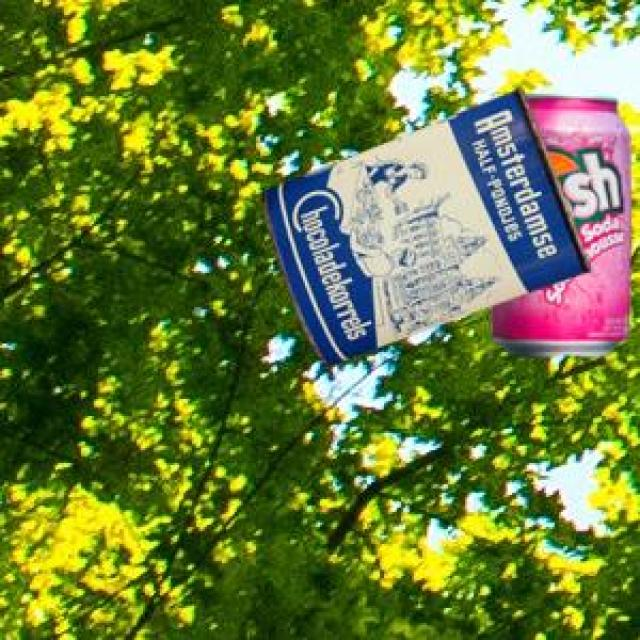logam: (259, 84, 588, 364), (490, 91, 626, 353)
